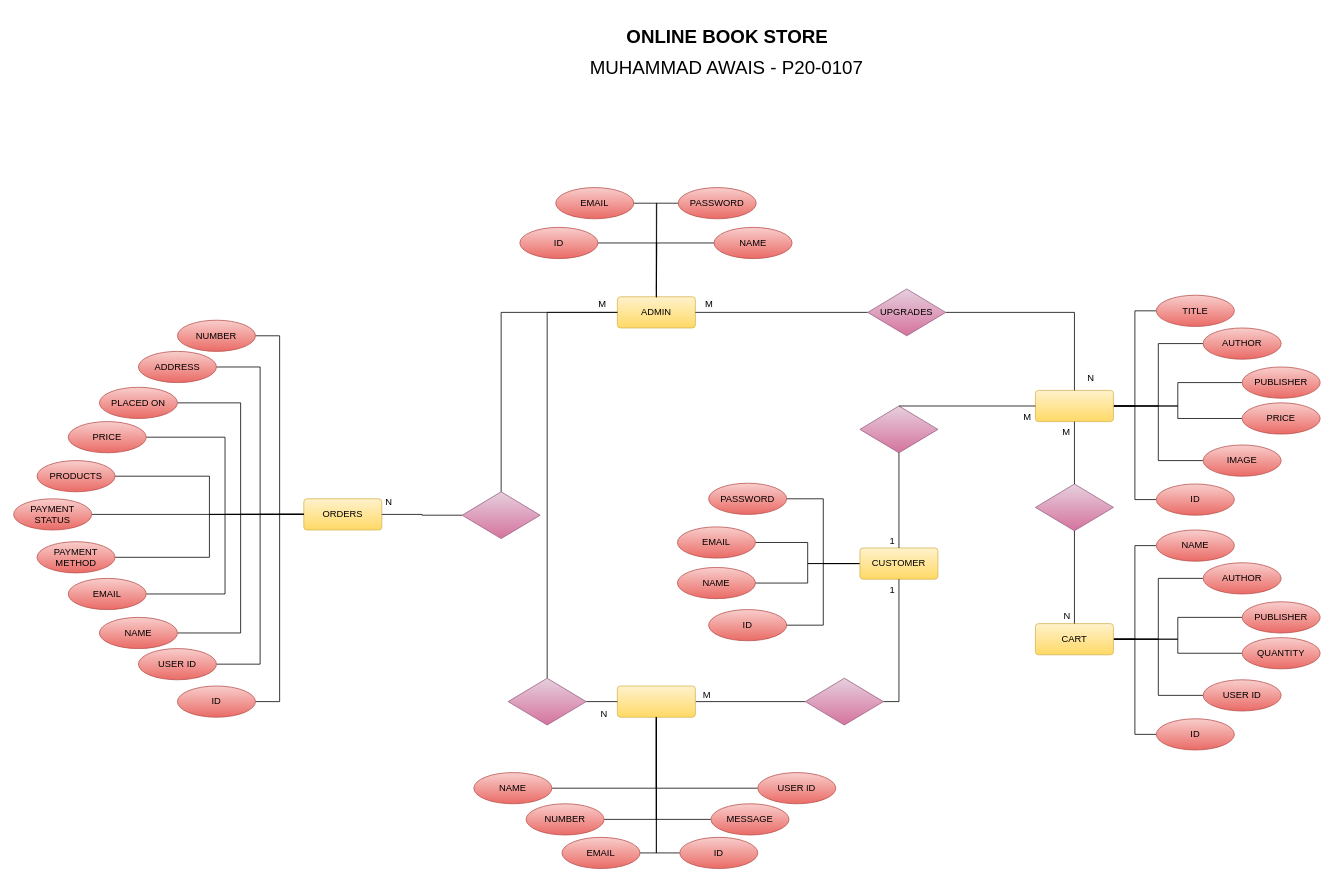
Image size: 1334x882. Some labels were removed from this diagram. The centre of each missing label's shape, as x and y in pixels:
"BOOK" belongs at (1074,406).
"BUYS" belongs at (898,429).
"CONTAINS" belongs at (1074,507).
"FEEDBACK" belongs at (656,701).
"MANAGES" belongs at (500,515).
"RESPONDS" belongs at (546,701).
"SEND" belongs at (844,701).
